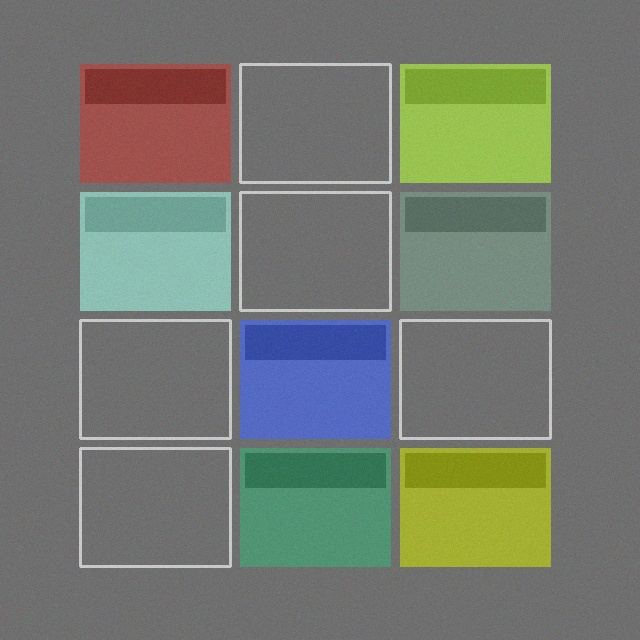space-empty: (240, 64, 390, 182), (240, 192, 390, 310), (80, 320, 230, 438), (400, 320, 550, 438), (80, 448, 230, 566)
space-occupied: (80, 64, 230, 182), (400, 64, 550, 182), (80, 192, 230, 310), (400, 192, 550, 310), (240, 320, 390, 438), (240, 448, 390, 566), (400, 448, 550, 566)
